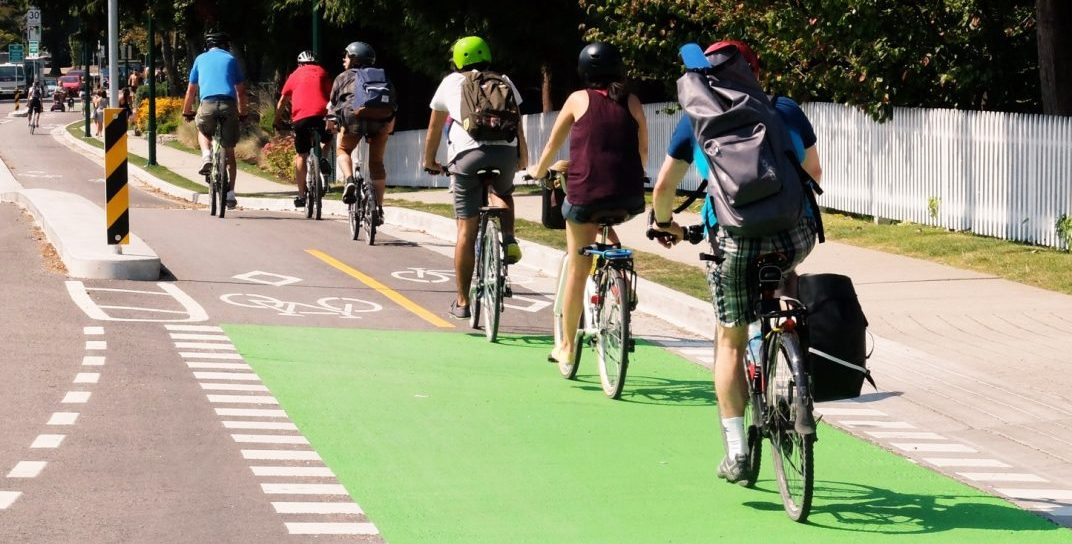commuter: (646, 38, 871, 526), (525, 41, 658, 395), (420, 35, 527, 351), (320, 42, 400, 245), (178, 34, 251, 218), (271, 52, 342, 224)
